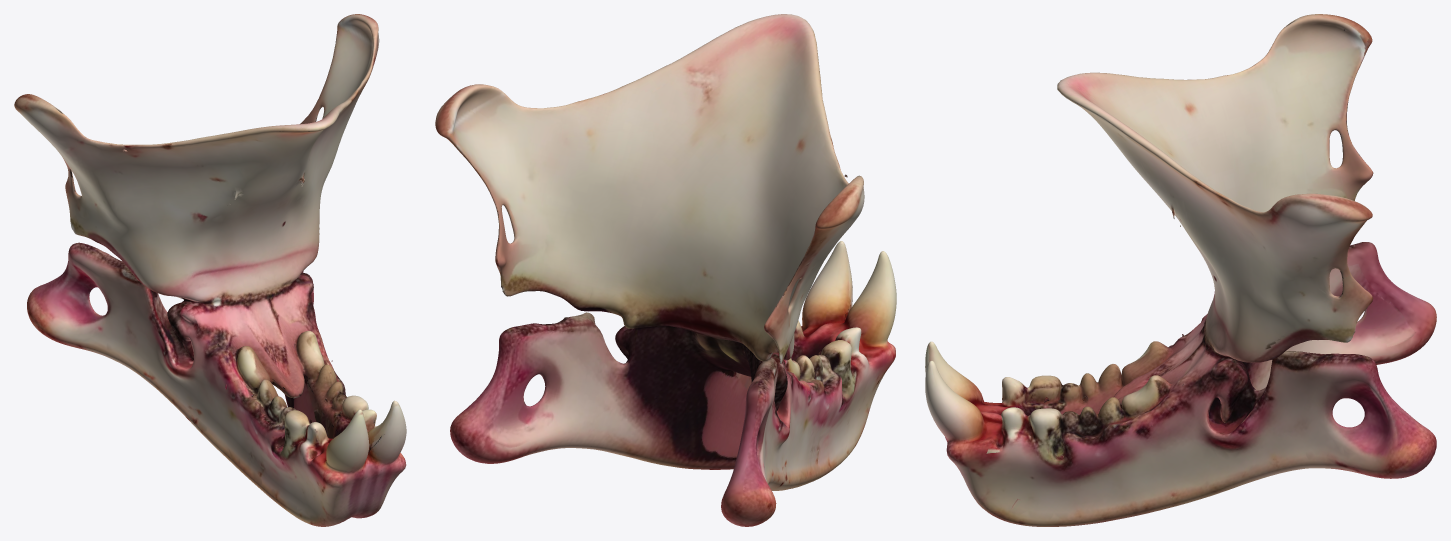
The model's file is dental-disease.glb.
3 renders of one model, left to right at view 1: azimuth 30°, elevation 25°; view 2: azimuth 150°, elevation 25°; view 3: azimuth 270°, elevation 25°, orthographic. The views are drawn at different scales.
Parts seen in each view (by area): view 1: model; view 2: model; view 3: model.
Boxes of the visible parts, x1=… form: model: x1=14, y1=14, x2=406, y2=526; model: x1=435, y1=14, x2=896, y2=526; model: x1=925, y1=14, x2=1436, y2=526.
Size of the model in its own units: 1.69 by 1.76 by 1.9.
Materials: 1 (1 with a texture image).
